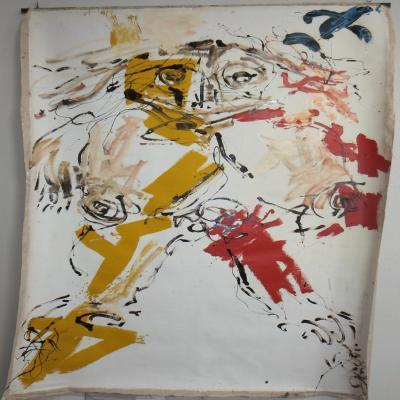painting: (14, 6, 400, 400)
